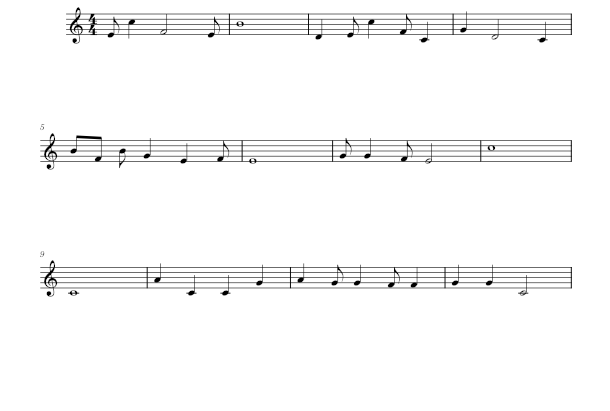Treble Clef: (65, 0, 87, 48), (41, 259, 62, 301), (41, 131, 61, 173)
